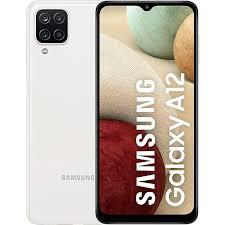Smartphone: (100, 4, 198, 224), (28, 1, 101, 225)
